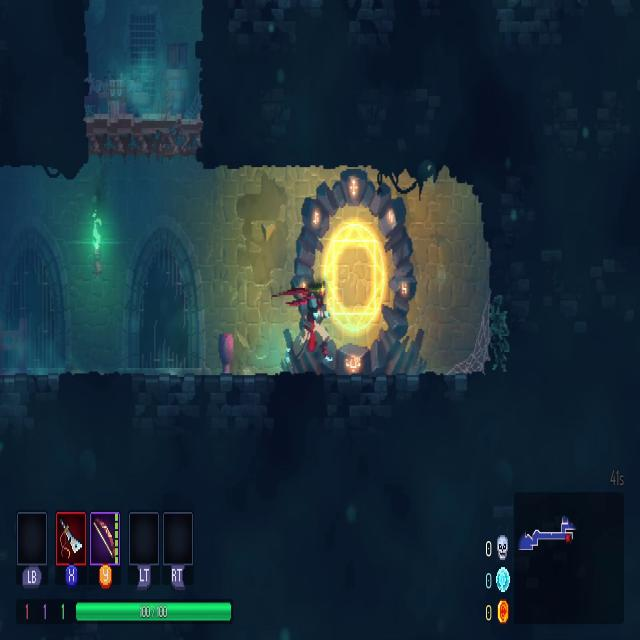agents: (284, 280, 330, 377)
wood_floor: (84, 108, 206, 160)
